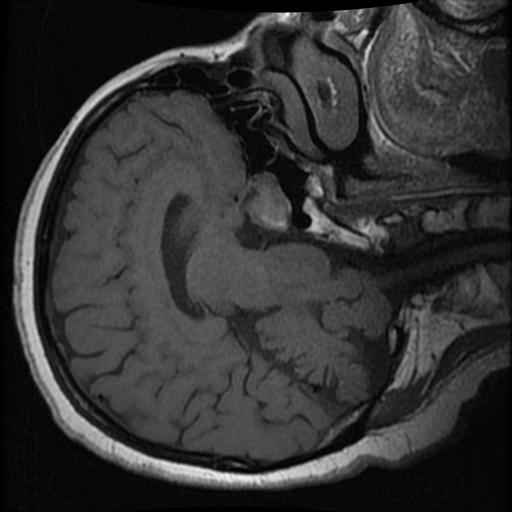pituitary tumour: (247, 172, 292, 232)
